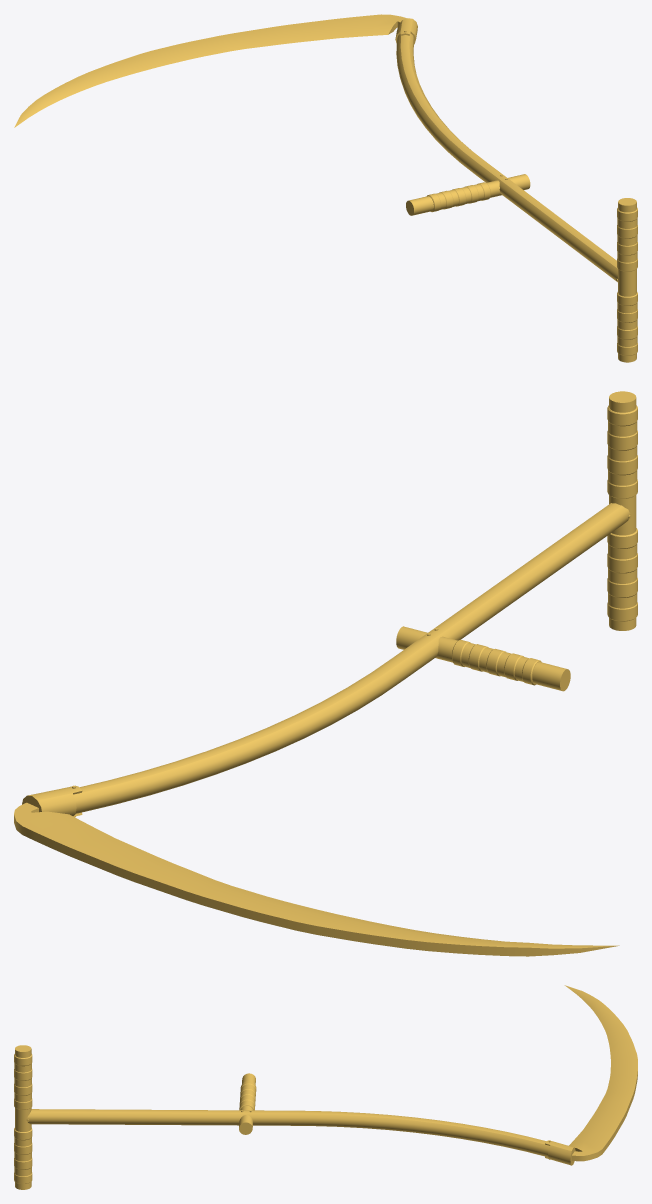
Rendered from scythe.FBX.
3 views of the same model, one above another, from view 1: azimuth 30°, elevation 25°; view 2: azimuth 150°, elevation 25°; view 3: azimuth 270°, elevation 25° (orthographic). The views are drawn at different scales.
Visible parts, largest first — view 1: Object001; view 2: Object001; view 3: Object001.
Part boxes in pixels (x1,y1,x2,y2): Object001: (14,14,637,362); Object001: (14,391,637,956); Object001: (14,985,637,1189).
Bounding box in the file's own units: 702 × 258 × 1058.
